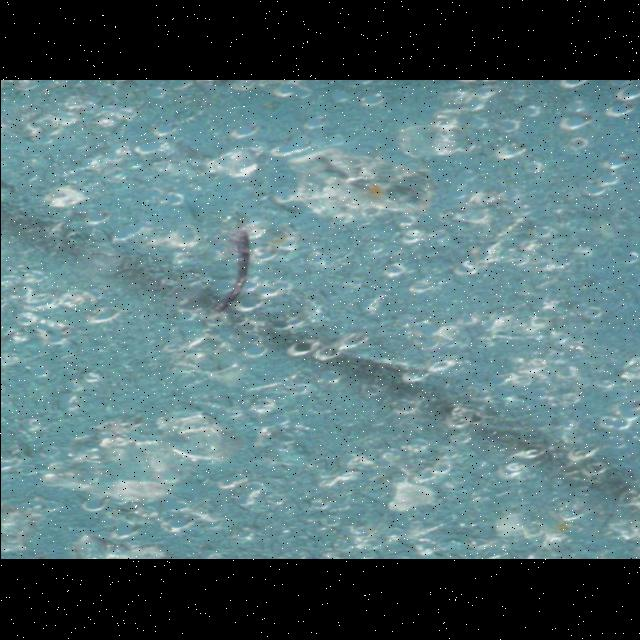Fibre: (210, 212, 282, 326)
